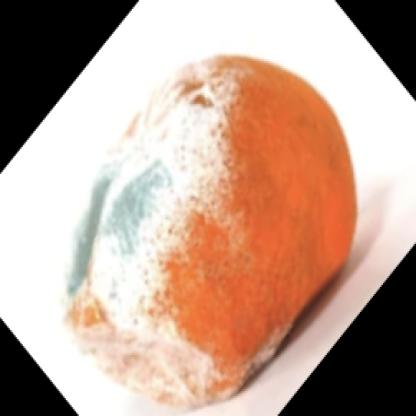rotten: (56, 55, 361, 408)
